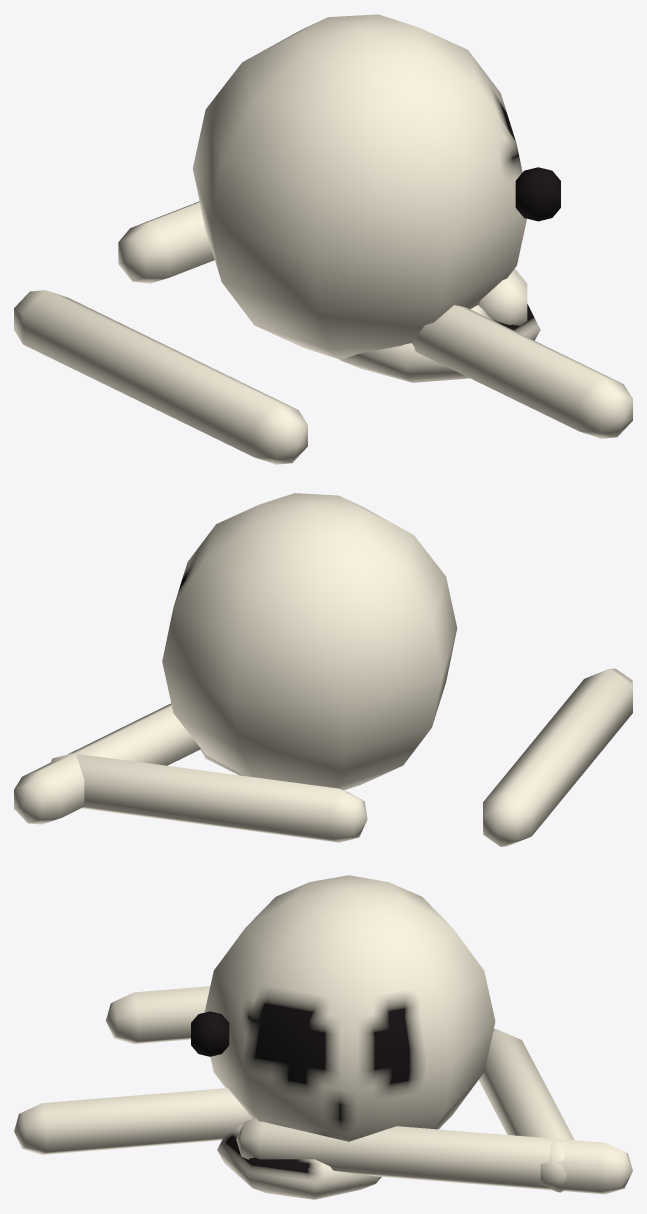
File: prop_bones5_7813.glb
The picture shows the model from 3 angles, top to bottom: view 1: azimuth 30°, elevation 25°; view 2: azimuth 150°, elevation 25°; view 3: azimuth 270°, elevation 25°; orthographic projection. The views are drawn at different scales.
Parts seen in each view (by area): view 1: prop_bones5_7813; view 2: prop_bones5_7813; view 3: prop_bones5_7813.
Part boxes in pixels (<box>): prop_bones5_7813: <box>14,14,632,464</box>; prop_bones5_7813: <box>14,493,632,846</box>; prop_bones5_7813: <box>14,875,632,1199</box>.
Bounding box in the file's own units: 0.5694 × 0.3756 × 0.7661.
1 material, 1 textured.
